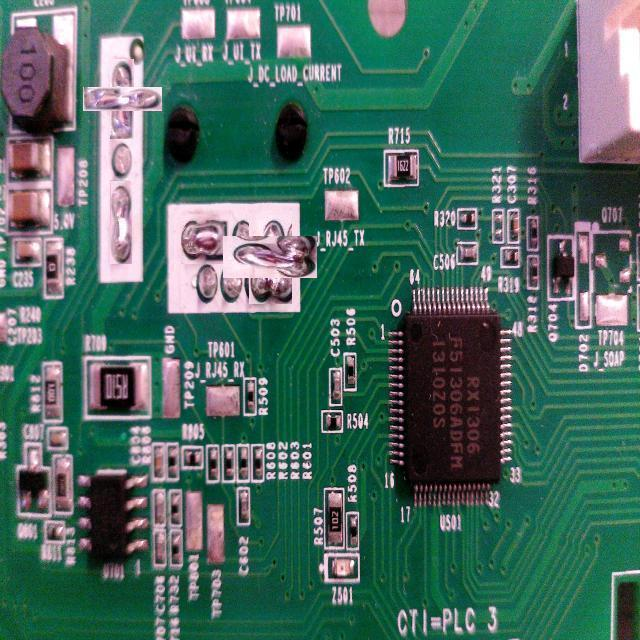Short_circuit: (236, 223, 305, 291), (96, 74, 148, 125), (181, 214, 230, 264), (110, 180, 132, 264)
